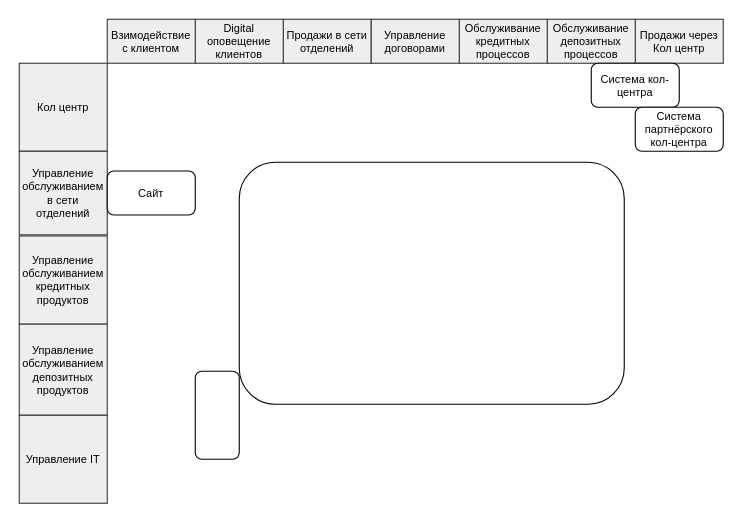
The diagram is 743 pixels wide and 523 high, and some of its shapes have lost their labels. The centre of each missing label's shape, as x and y in pixels:
АБС: point (431, 282)
СМС-шлюз телеком-оператора: point (216, 414)
